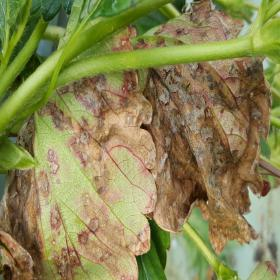Angular Leafspot: (0, 18, 158, 279), (133, 0, 273, 254), (0, 229, 34, 279)
